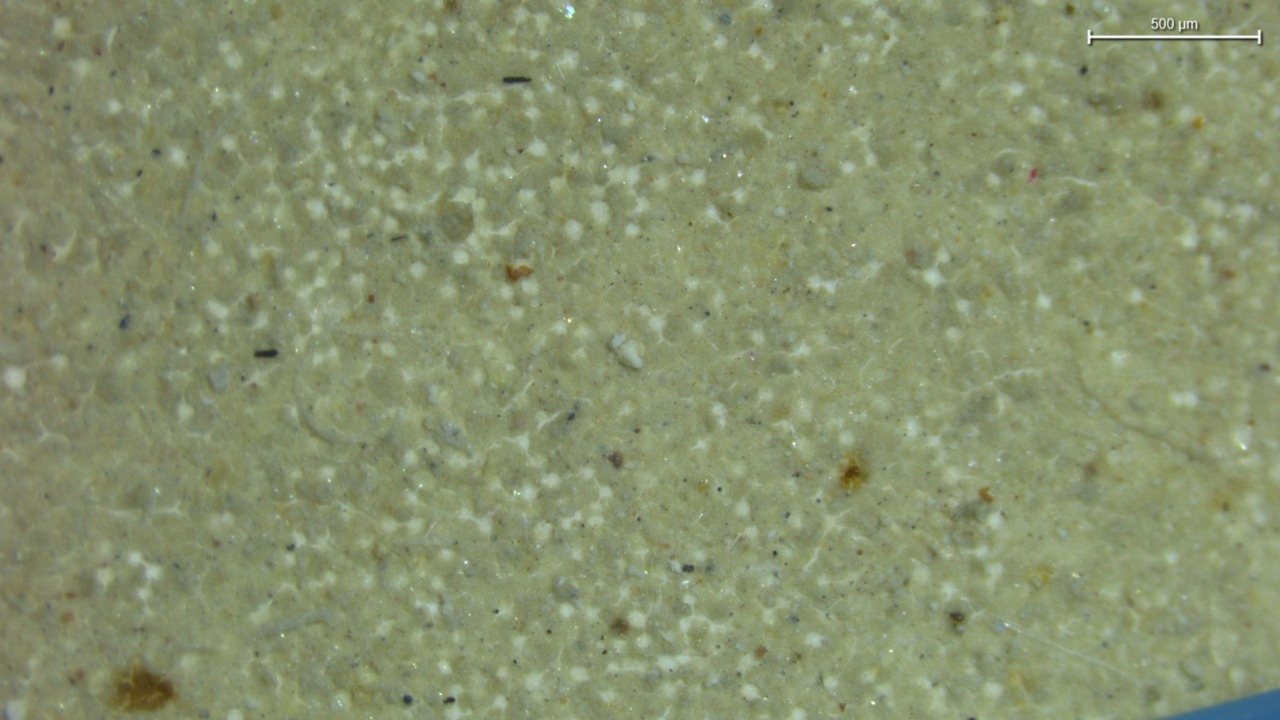microplastic_fragment: (616, 340, 643, 369), (609, 333, 626, 352)
